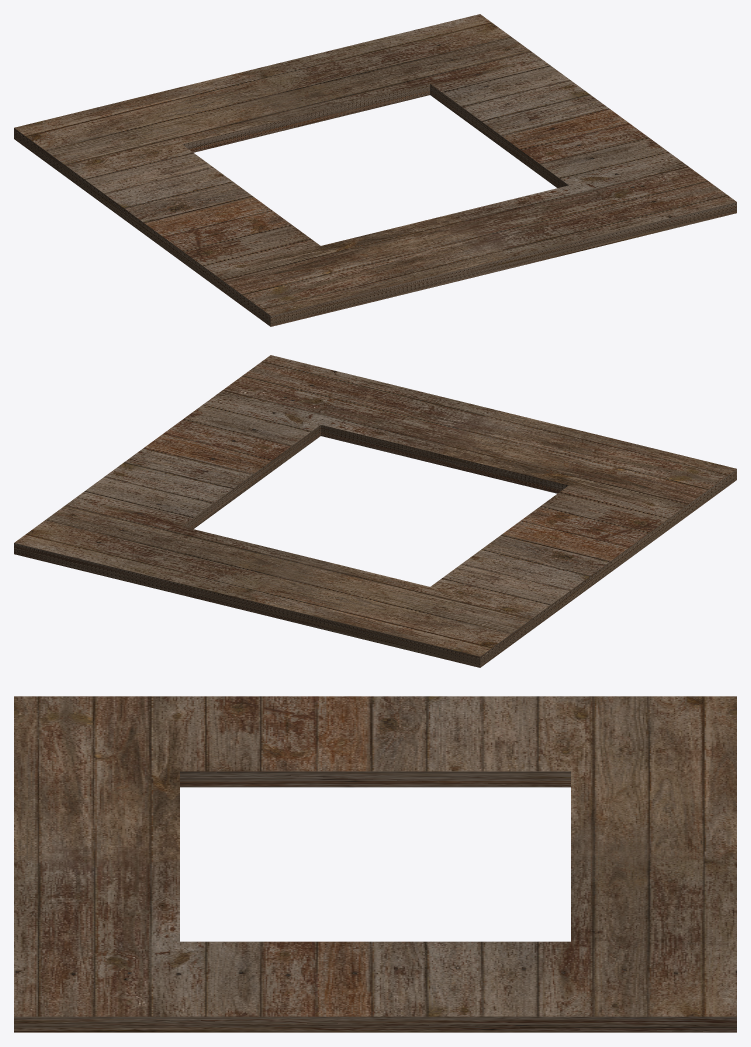
Rendered from TopPlatform.fbx.
3 renders of one model, top to bottom at view 1: azimuth 30°, elevation 25°; view 2: azimuth 150°, elevation 25°; view 3: azimuth 270°, elevation 25°, orthographic. The views are drawn at different scales.
Visible parts, largest first — view 1: TopPlatform; view 2: TopPlatform; view 3: TopPlatform.
Part boxes in pixels (x1,y1,x2,y2): TopPlatform: (14,14,736,326); TopPlatform: (14,355,736,667); TopPlatform: (14,696,736,1032).
Size of the model in its own units: 650 by 15 by 620.
1 material, 1 textured.
